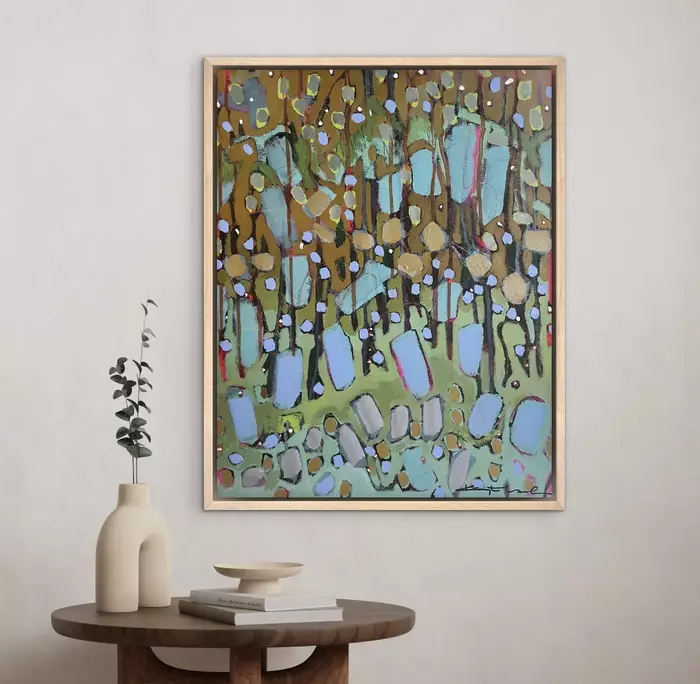painting: (201, 56, 567, 513)
